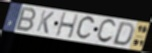B: (14, 6, 38, 33)
C: (74, 15, 96, 42), (95, 19, 117, 45)
D: (111, 21, 136, 47)
H: (55, 11, 80, 39)
K: (35, 9, 56, 35)
